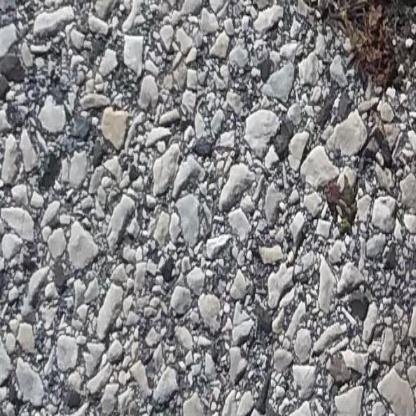Cracks: (260, 0, 416, 87)
